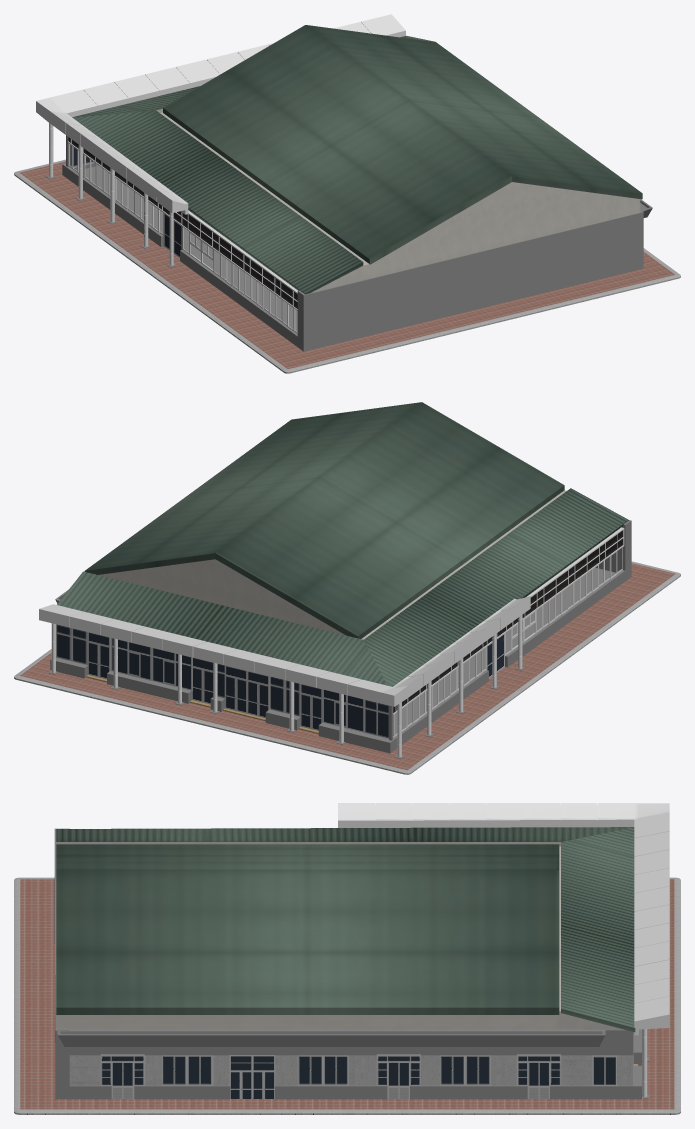
The picture shows the model from 3 angles, top to bottom: view 1: azimuth 30°, elevation 25°; view 2: azimuth 150°, elevation 25°; view 3: azimuth 270°, elevation 25°; orthographic projection. The views are drawn at different scales.
Visible parts, largest first — view 1: Canteen(Clone); view 2: Canteen(Clone); view 3: Canteen(Clone).
Part boxes in pixels (x1=…): Canteen(Clone): x1=14, y1=14, x2=680, y2=373; Canteen(Clone): x1=14, y1=402, x2=680, y2=774; Canteen(Clone): x1=14, y1=803, x2=680, y2=1114.
Bounding box in the file's own units: 2.03 × 0.6242 × 2.43.
Materials: 9 (6 with a texture image).
